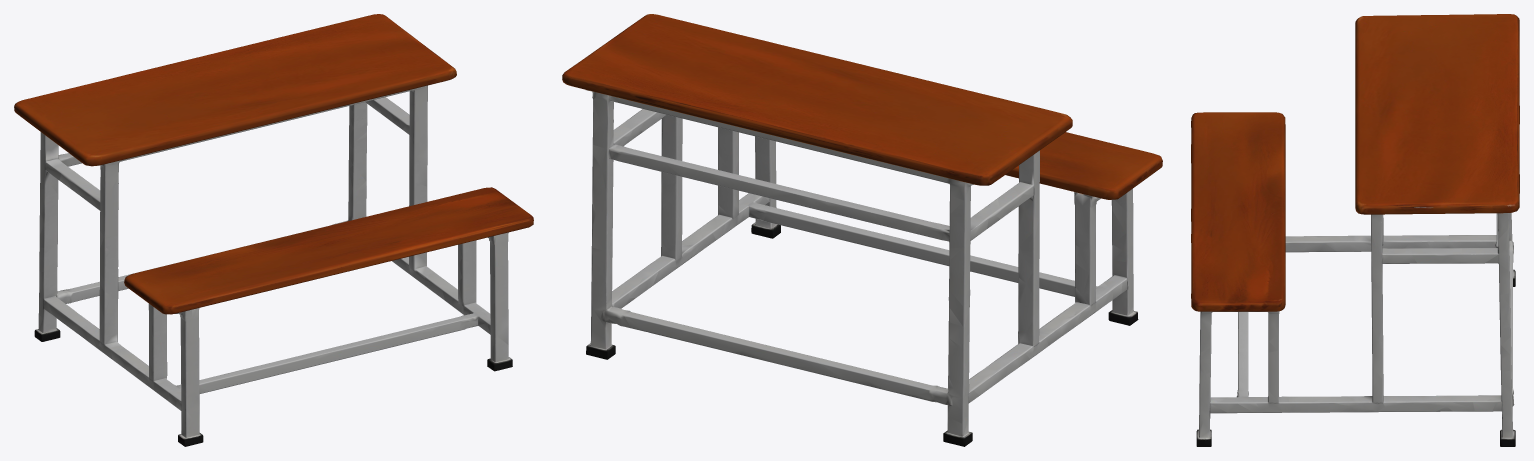
Rendered from desk_combo.fbx.
3 views of the same model, side by side, from view 1: azimuth 30°, elevation 25°; view 2: azimuth 150°, elevation 25°; view 3: azimuth 270°, elevation 25° (orthographic). The views are drawn at different scales.
Visible parts, largest first — view 1: tripo_node_7cbbbc05-d25e-4aaa-9030-160f9bb313a8; view 2: tripo_node_7cbbbc05-d25e-4aaa-9030-160f9bb313a8; view 3: tripo_node_7cbbbc05-d25e-4aaa-9030-160f9bb313a8.
Part boxes in pixels (box(x1,y1,x2,y2)): tripo_node_7cbbbc05-d25e-4aaa-9030-160f9bb313a8: box(14, 14, 533, 446); tripo_node_7cbbbc05-d25e-4aaa-9030-160f9bb313a8: box(562, 14, 1162, 446); tripo_node_7cbbbc05-d25e-4aaa-9030-160f9bb313a8: box(1191, 14, 1519, 446).
Size of the model in its own units: 138 by 85.41 by 99.99.
1 material, 1 textured.
